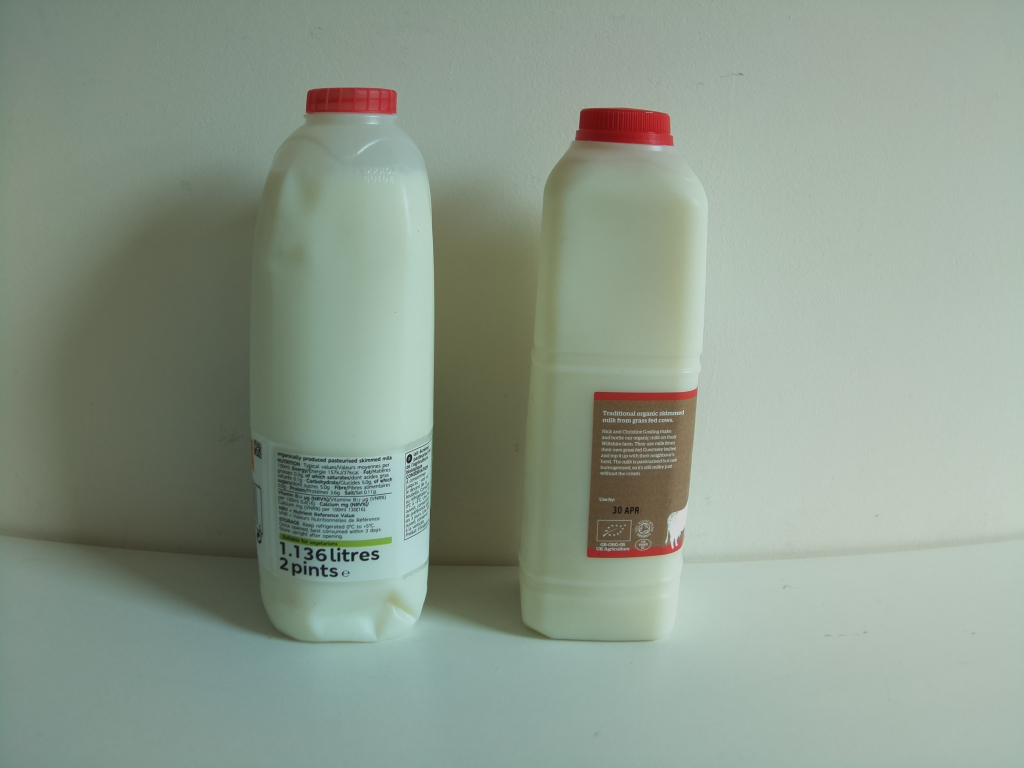milk: (242, 80, 442, 647), (515, 103, 698, 647)
